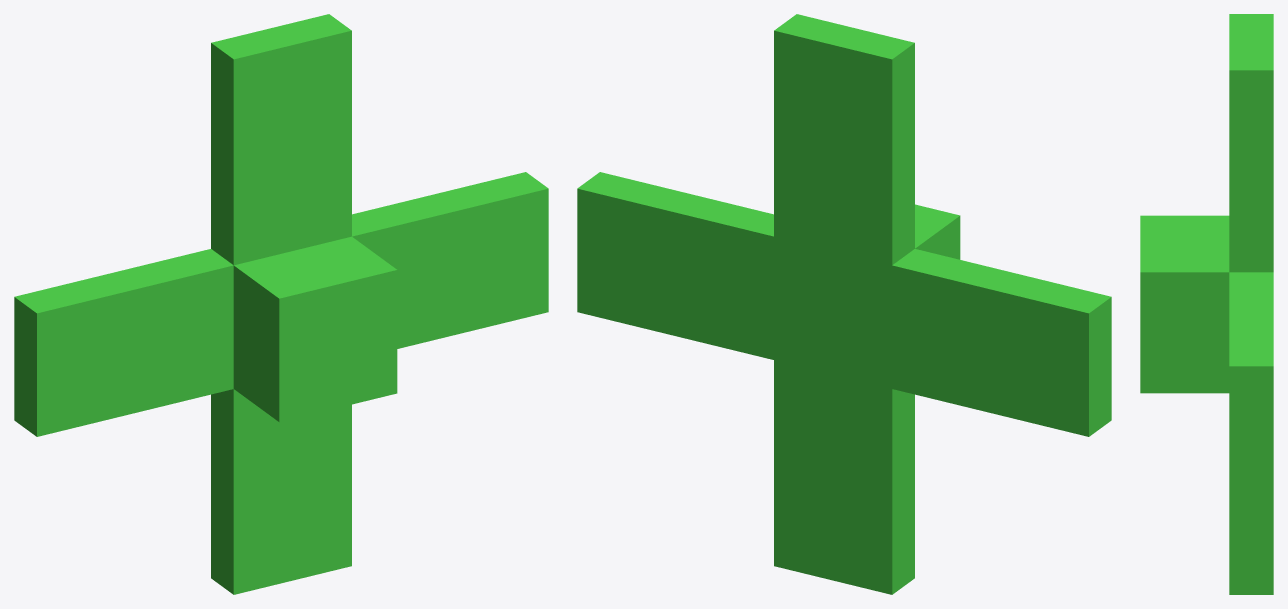
The model's file is shopmarine_rotor.glb.
3 renders of one model, left to right at view 1: azimuth 30°, elevation 25°; view 2: azimuth 150°, elevation 25°; view 3: azimuth 270°, elevation 25°, orthographic. The views are drawn at different scales.
Visible parts, largest first — view 1: shopmarine_rotor; view 2: shopmarine_rotor; view 3: shopmarine_rotor.
Boxes of the visible parts, x1,y1,x2,y2 form: shopmarine_rotor: (14,14,548,594); shopmarine_rotor: (577,14,1111,594); shopmarine_rotor: (1140,14,1273,594).
Size of the model in its own units: 13 by 13 by 3.
1 material, 1 textured.
